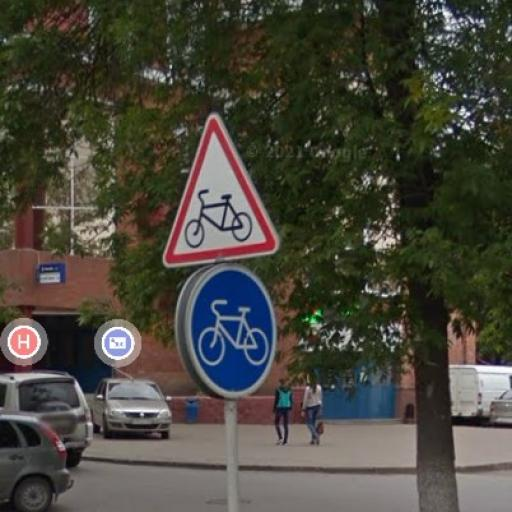traffic_sign: (162, 112, 283, 270), (184, 264, 280, 402)
